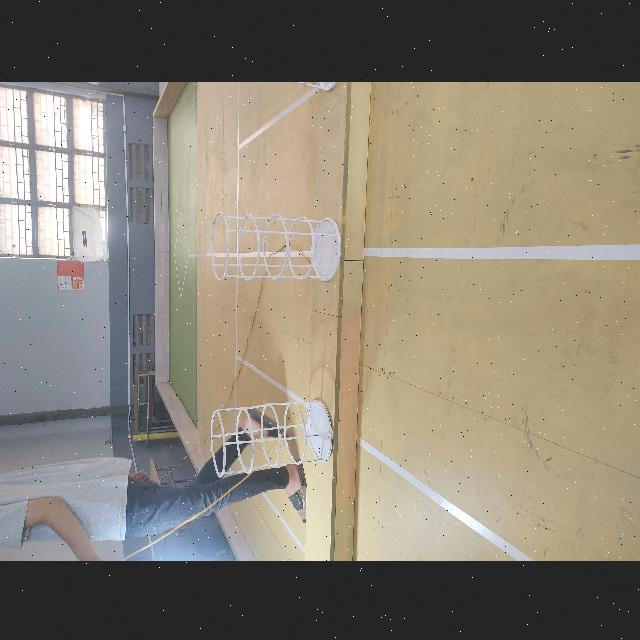S: (210, 398, 334, 477), (210, 208, 340, 280), (282, 80, 340, 92)
